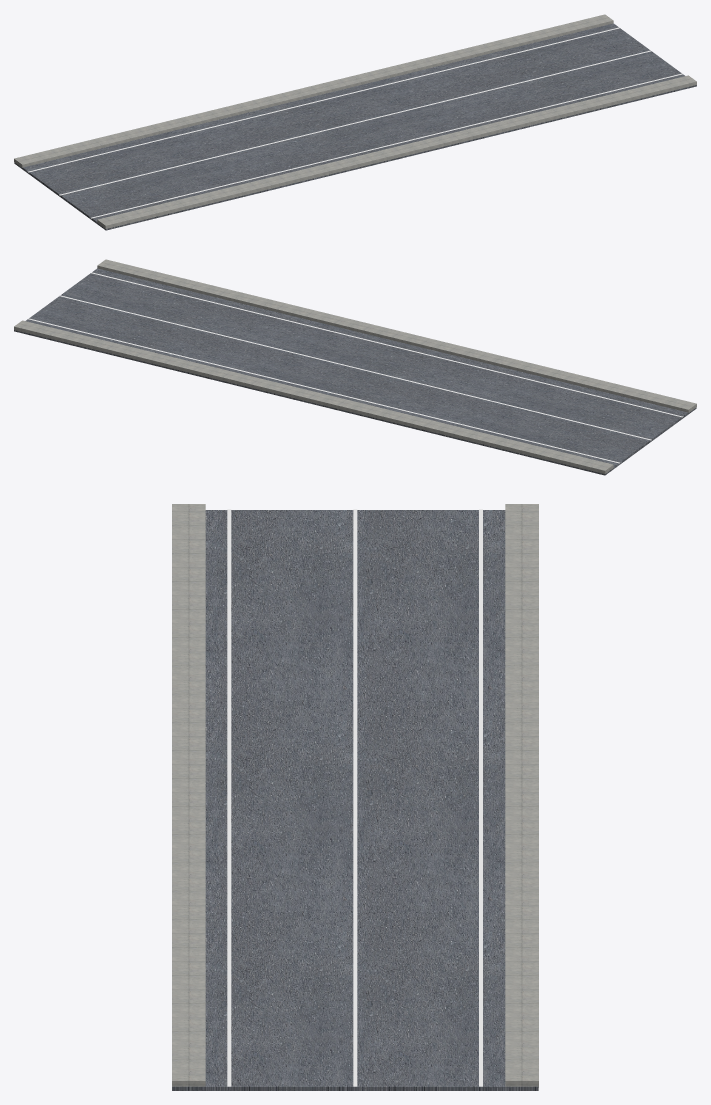
The model's file is malu-wai.obj.
3 views of the same model, one above another, from view 1: azimuth 30°, elevation 25°; view 2: azimuth 150°, elevation 25°; view 3: azimuth 270°, elevation 25° (orthographic). The views are drawn at different scales.
Visible parts, largest first — view 1: malu; view 2: malu; view 3: malu.
Part boxes in pixels (x1,y1,x2,y2): malu: (14,14,696,230); malu: (14,259,696,475); malu: (172,504,538,1090).
Size of the model in its own units: 41043 by 326 by 11029.
Materials: 3 (2 with a texture image).
